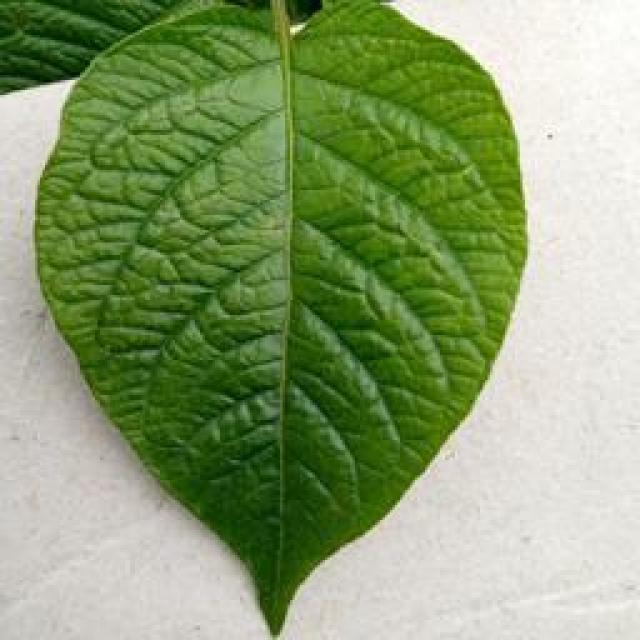healthy: (25, 0, 533, 638)
